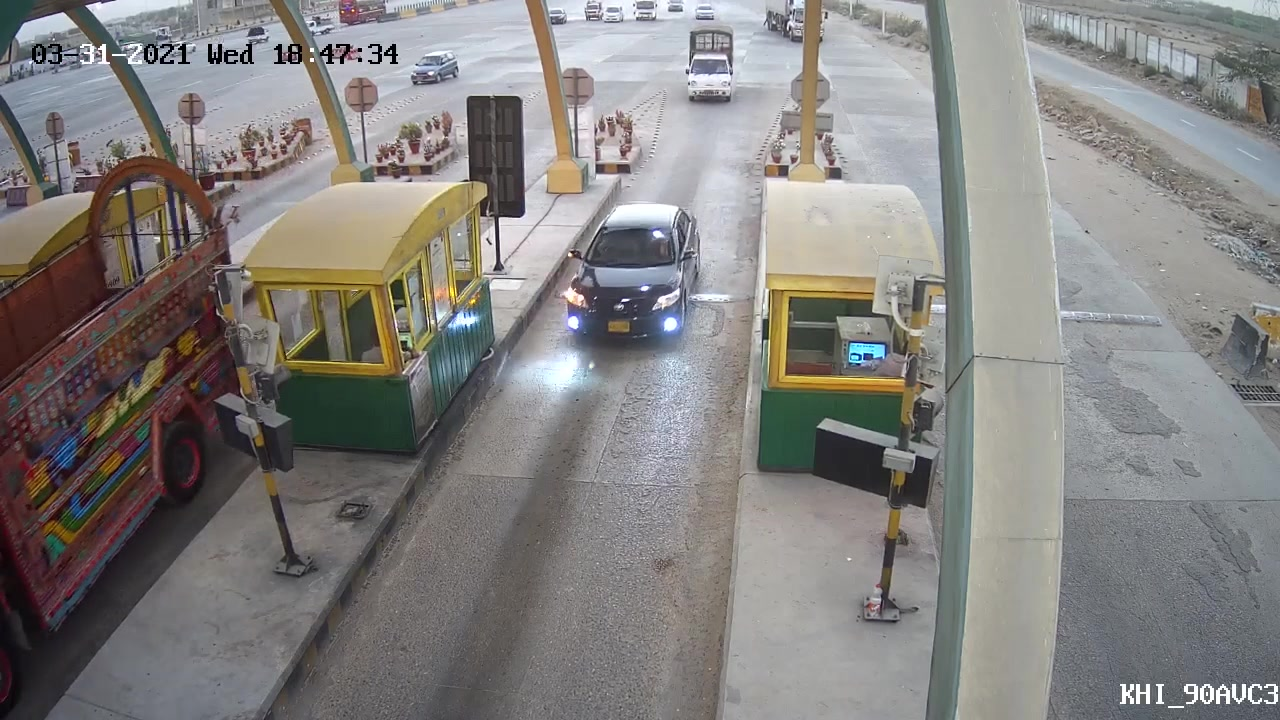F1: (558, 195, 707, 345)
